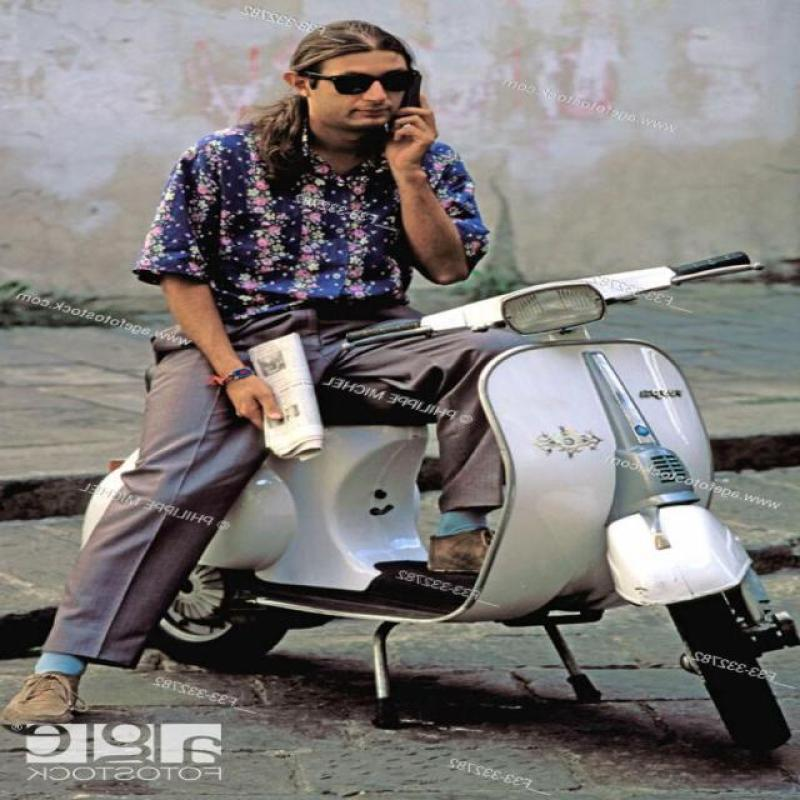nohelmet: (284, 8, 420, 128)
